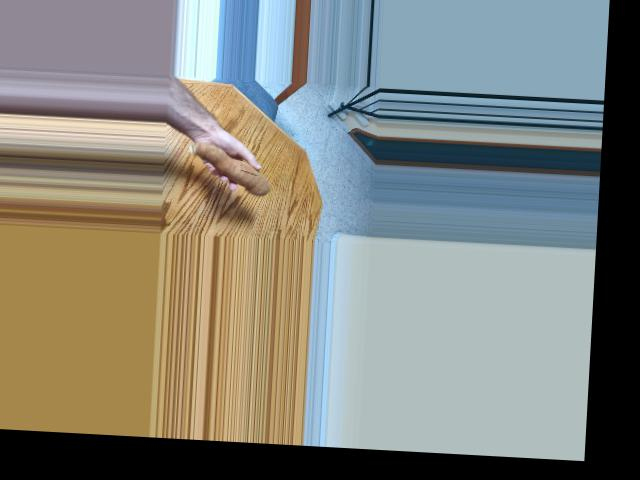sweet_potato: (185, 135, 275, 197)
